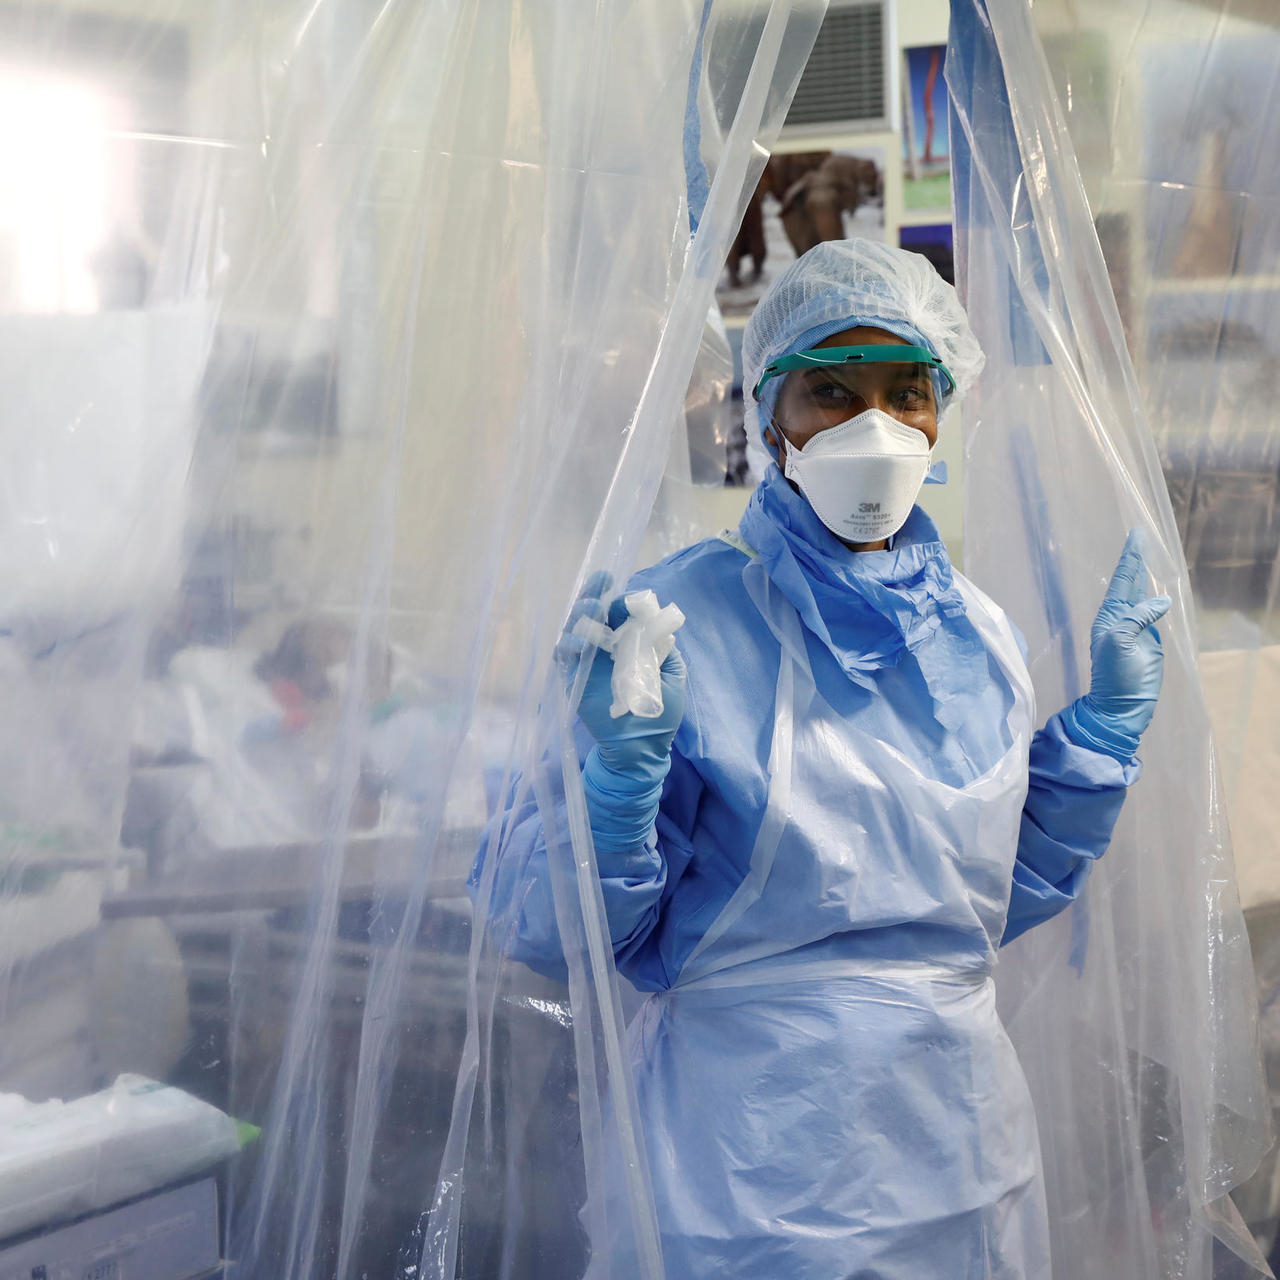Gloves: (539, 558, 697, 815), (1066, 525, 1178, 765)
Goggles: (752, 317, 971, 450)
with_mask: (781, 354, 932, 549)
